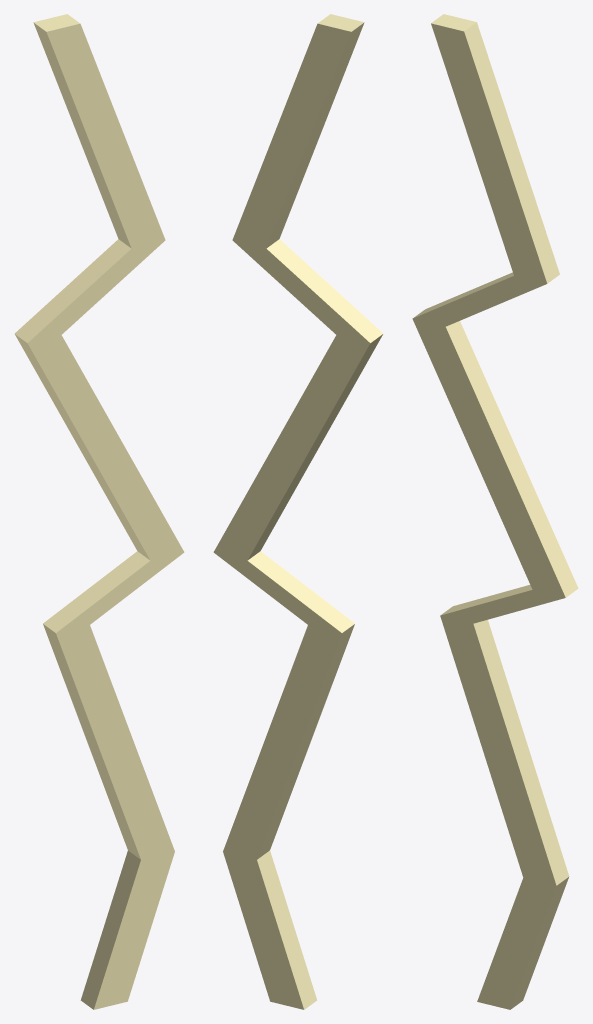
Rendered from Hava_simsek.fbx.
The picture shows the model from 3 angles, left to right: view 1: azimuth 30°, elevation 25°; view 2: azimuth 150°, elevation 25°; view 3: azimuth 330°, elevation 25°; orthographic projection. The views are drawn at different scales.
Visible parts, largest first — view 1: Hava_simsek; view 2: Hava_simsek; view 3: Hava_simsek.
Boxes of the visible parts, x1,y1,x2,y2 form: Hava_simsek: (14,14,184,1009); Hava_simsek: (213,14,383,1009); Hava_simsek: (412,14,578,1009).
Bounding box in the file's own units: 1.66 × 10 × 0.24.
